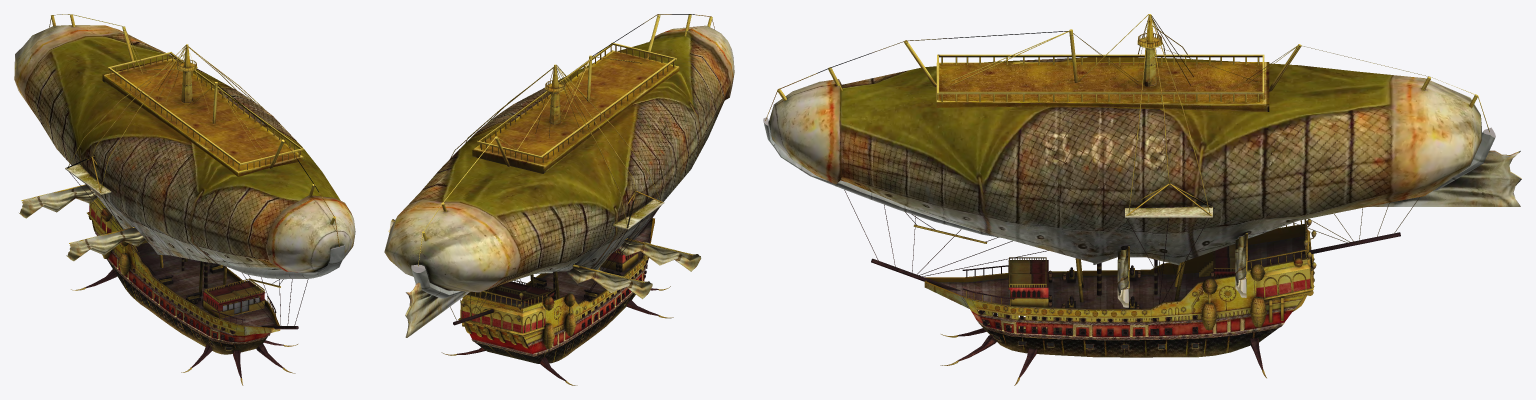
Rendered from zeppelin.glb.
The picture shows the model from 3 angles, left to right: view 1: azimuth 30°, elevation 25°; view 2: azimuth 150°, elevation 25°; view 3: azimuth 270°, elevation 25°; orthographic projection. The views are drawn at different scales.
Visible parts, largest first — view 1: ship ballon, uv set 4, uv set 6, uv set 3, uv set 1, uv set 2; view 2: ship ballon, uv set 4, uv set 6, uv set 3, uv set 2, uv set 1; view 3: ship ballon, uv set 4, uv set 6, uv set 3, uv set 1, uv set 2.
Boxes of the visible parts, x1,y1,x2,y2 form: ship ballon: (14,25,355,279); uv set 4: (19,14,339,302); uv set 6: (93,197,280,354); uv set 3: (65,45,280,299); uv set 1: (69,46,308,385); uv set 2: (89,199,265,318); ship ballon: (384,25,734,298); uv set 4: (388,14,714,337); uv set 6: (462,218,654,363); uv set 3: (450,65,664,349); uv set 2: (460,248,638,332); uv set 1: (441,66,673,385); ship ballon: (763,57,1495,265); uv set 4: (765,14,1521,307); uv set 6: (924,223,1307,357); uv set 3: (913,17,1314,330); uv set 1: (844,15,1419,385); uv set 2: (1008,230,1310,308).
Bounding box in the file's own units: 4.96 × 5.07 × 10.27.
Materials: 6 (6 with a texture image).
